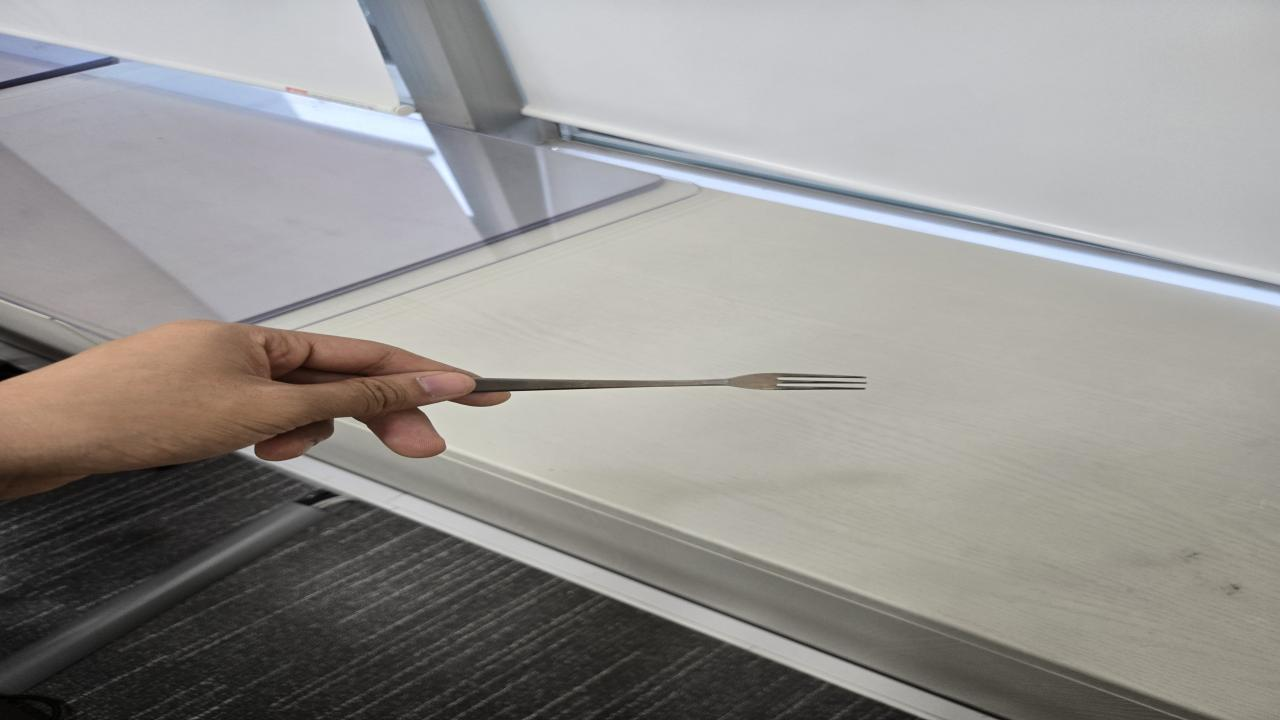fork: (478, 373, 872, 391)
